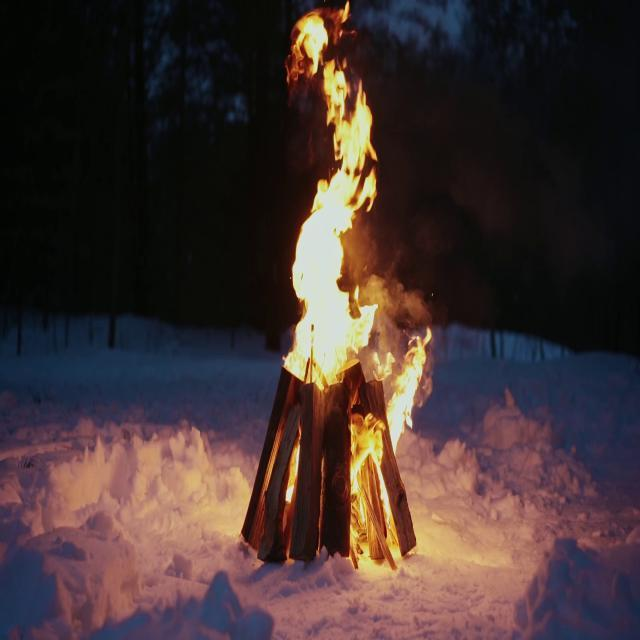Fire: (282, 6, 434, 554)
